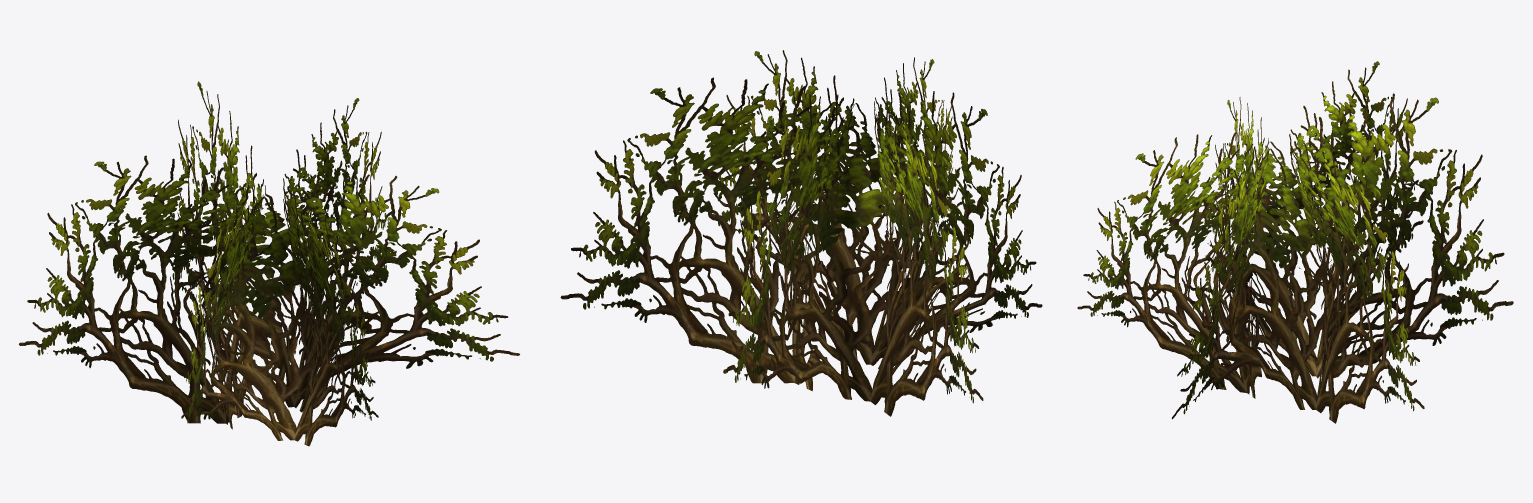
File: alteracshrub02.obj
The picture shows the model from 3 angles, left to right: view 1: azimuth 30°, elevation 25°; view 2: azimuth 150°, elevation 25°; view 3: azimuth 270°, elevation 25°; orthographic projection. The views are drawn at different scales.
Parts seen in each view (by area): view 1: ALTERACSHRUB020; view 2: ALTERACSHRUB020; view 3: ALTERACSHRUB020.
Boxes of the visible parts, x1,y1,x2,y2 form: ALTERACSHRUB020: (19, 81, 519, 446); ALTERACSHRUB020: (560, 50, 1042, 416); ALTERACSHRUB020: (1077, 61, 1513, 423).
Bounding box in the file's own units: 4.66 × 3.79 × 4.6.
1 material, 1 textured.
